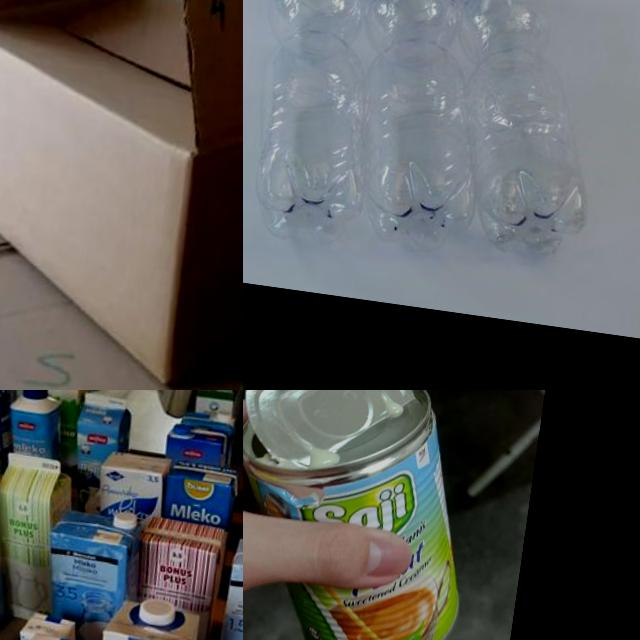caixinha: (0, 452, 79, 625), (40, 510, 144, 630), (130, 515, 226, 613), (67, 392, 136, 480), (93, 448, 172, 524), (158, 460, 242, 530), (80, 598, 203, 640), (31, 390, 95, 470), (0, 462, 28, 637), (163, 420, 230, 467), (0, 390, 27, 477), (193, 390, 237, 416)
garrafa plástica: (426, 0, 621, 265), (334, 0, 510, 255), (243, 0, 396, 251)
lata: (243, 390, 499, 640)
papelão: (0, 0, 243, 390), (0, 137, 243, 390)
tampa plástica: (138, 596, 176, 627), (22, 390, 50, 401), (172, 424, 191, 437)
